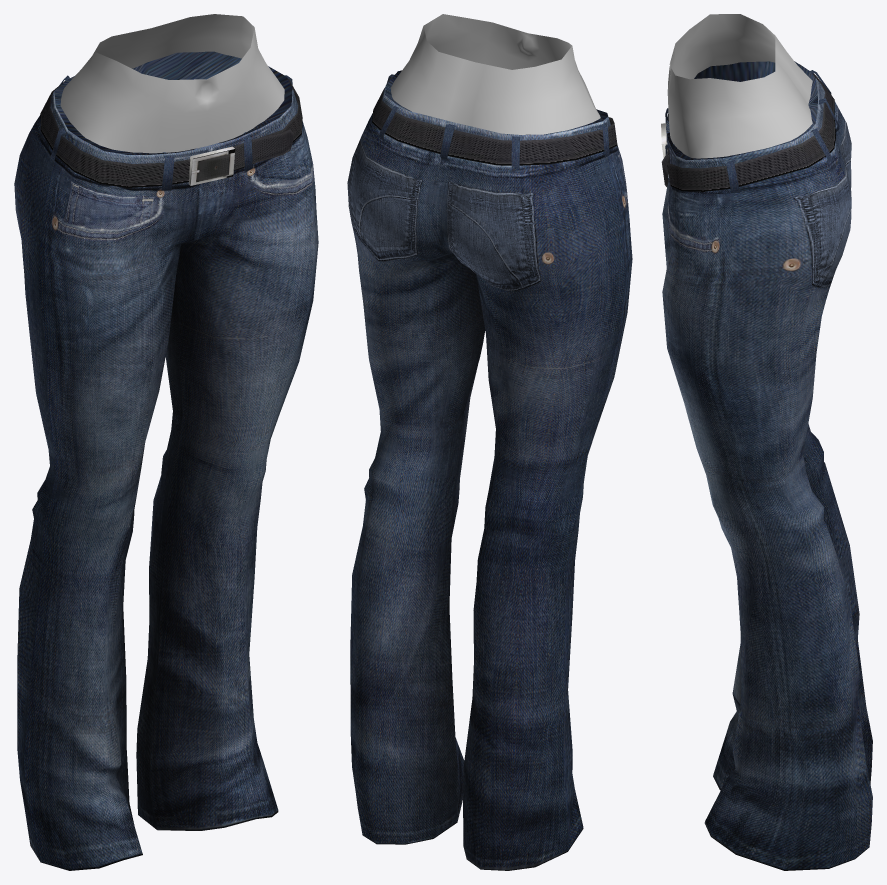
The picture shows the model from 3 angles, left to right: view 1: azimuth 30°, elevation 25°; view 2: azimuth 150°, elevation 25°; view 3: azimuth 270°, elevation 25°; orthographic projection. The views are drawn at different scales.
Visible parts, largest first — view 1: Pocolov_Bottoms_Pants_01, Object001_Material #306_0; view 2: Pocolov_Bottoms_Pants_01, Object001_Material #306_0; view 3: Pocolov_Bottoms_Pants_01, Object001_Material #306_0.
Part boxes in pixels (x1,y1,x2,y2): Pocolov_Bottoms_Pants_01: (14,51,318,870); Object001_Material #306_0: (60,14,284,153); Pocolov_Bottoms_Pants_01: (347,70,632,870); Object001_Material #306_0: (390,14,600,134); Pocolov_Bottoms_Pants_01: (661,61,872,870); Object001_Material #306_0: (667,14,812,158).
Bounding box in the file's own units: 232 × 672 × 166.
3 materials, 2 textured.
